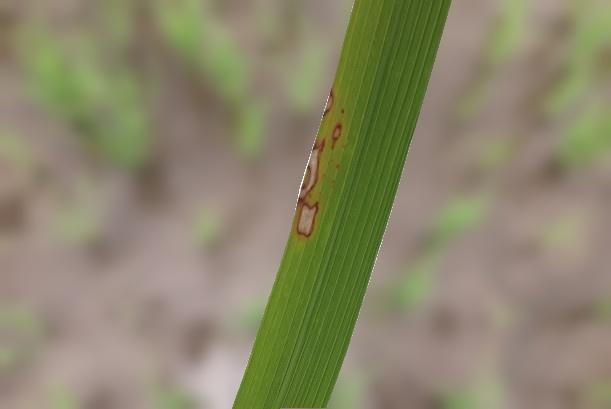LEAF BLAST: (298, 138, 325, 204), (297, 204, 317, 236), (323, 90, 333, 116), (331, 124, 341, 150)
